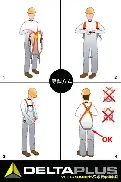safety belt: (75, 100, 98, 134), (27, 31, 45, 61)
